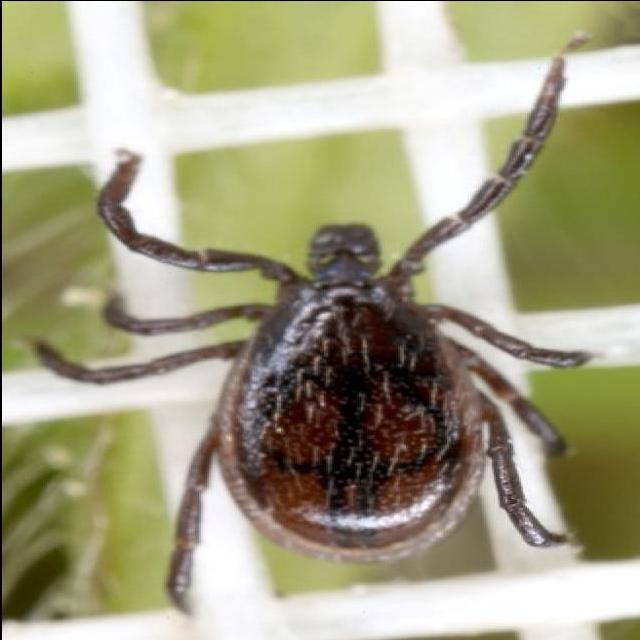Ixodes Ricinus-M: (29, 53, 587, 617)
